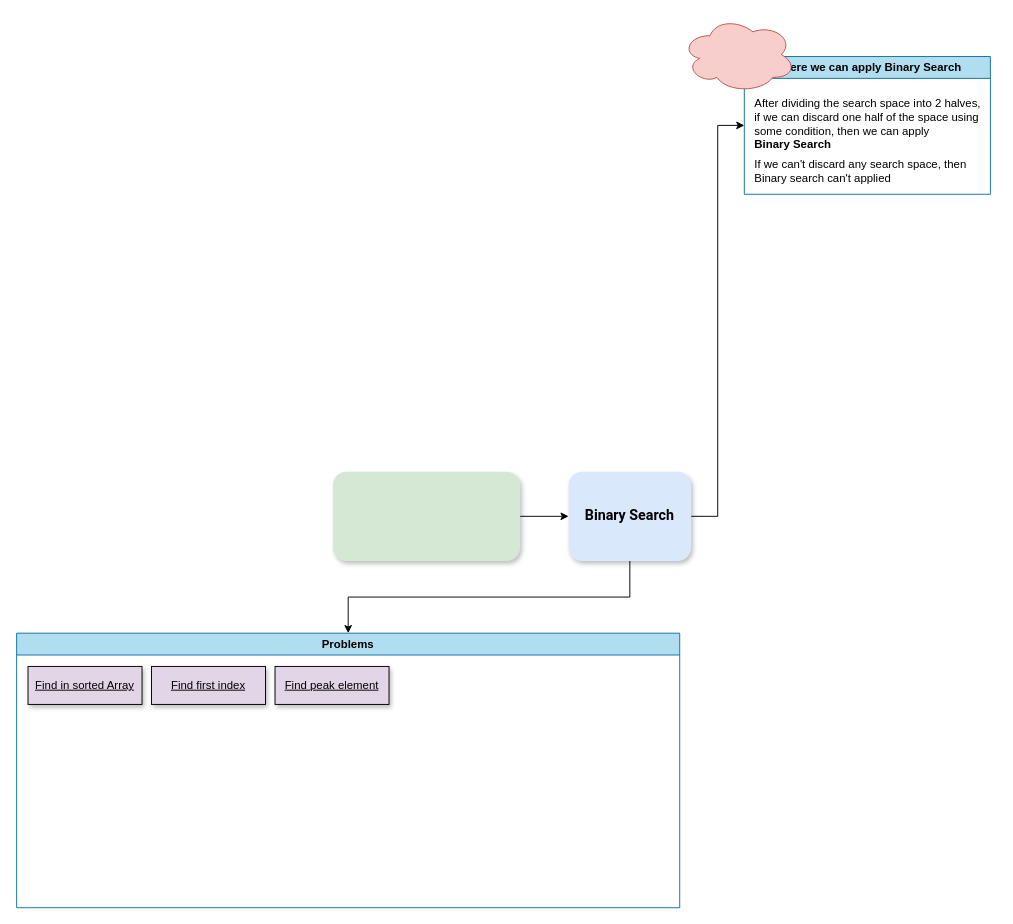
Image size: 1013x924. Some labels were removed from this diagram. Each missing label, with the centre of its shape:
"DATA STRUCTURE AND ALGORITHM" goes at point 427,517.
"IMPORTANT" goes at point 738,54.
